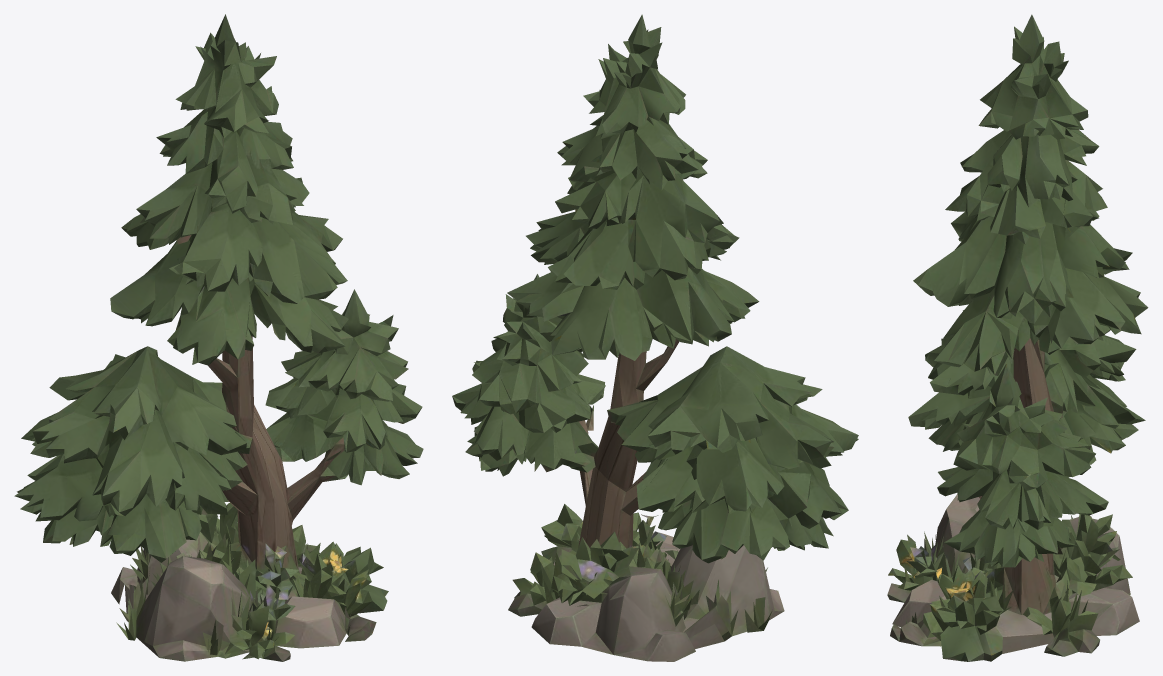
The model's file is angular-common-nature-small-pine-tree-cottage-normal.glb.
3 renders of one model, left to right at view 1: azimuth 30°, elevation 25°; view 2: azimuth 150°, elevation 25°; view 3: azimuth 270°, elevation 25°, orthographic.
Parts seen in each view (by area): view 1: Mesh_0; view 2: Mesh_0; view 3: Mesh_0.
Part boxes in pixels (box(x1,y1,x2,y2)): Mesh_0: box(14, 14, 423, 661); Mesh_0: box(452, 14, 858, 661); Mesh_0: box(887, 14, 1148, 661).
Bounding box in the file's own units: 1.2 × 1.75 × 0.7018.
Materials: 1 (1 with a texture image).
